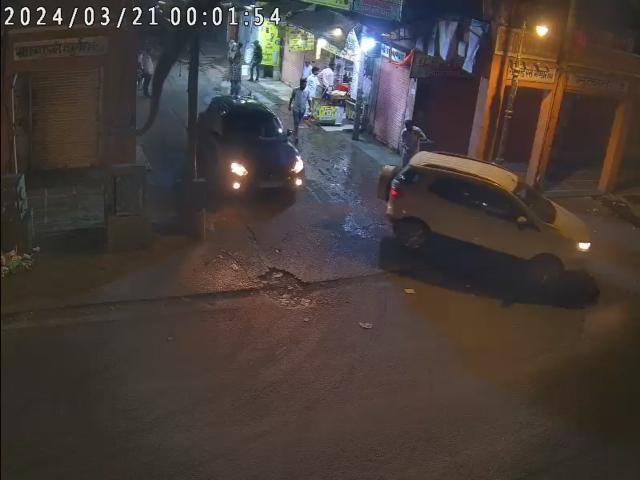car: (384, 152, 592, 284), (196, 91, 303, 199)
person: (292, 78, 308, 144), (402, 119, 427, 155), (248, 38, 264, 83), (304, 68, 322, 107), (230, 52, 244, 96)
